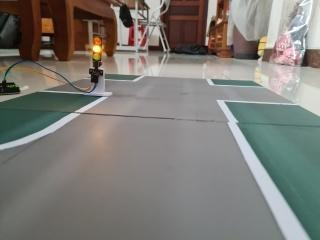yellow: (84, 28, 113, 70)
